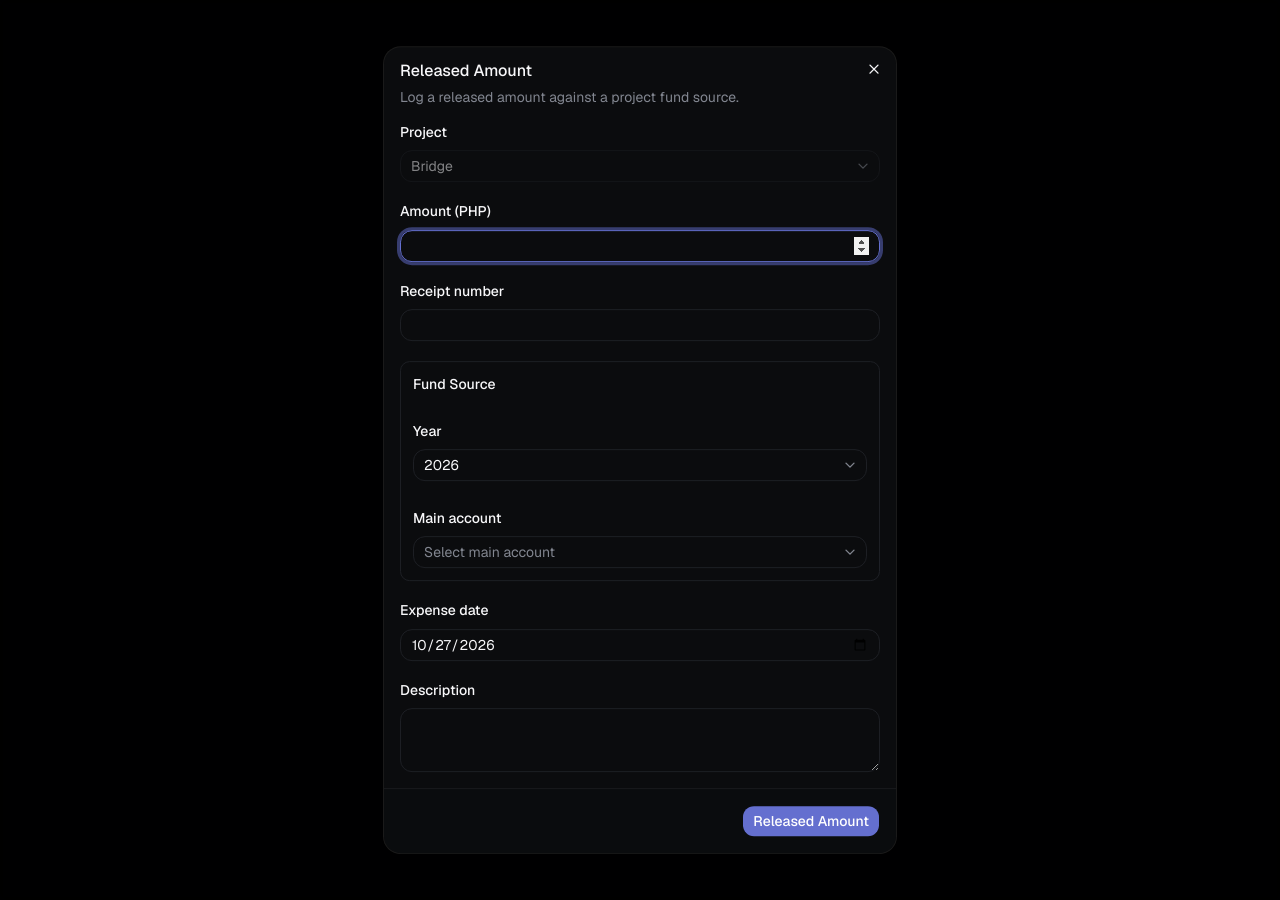
ReleasedAmountDialog (release cap) › should surface exact error when create would exceed allocated budget
Step 1. Type "15000" into the number field labelled "Amount (PHP)" → (640, 246), box x1=400 y1=230 x2=880 y2=262
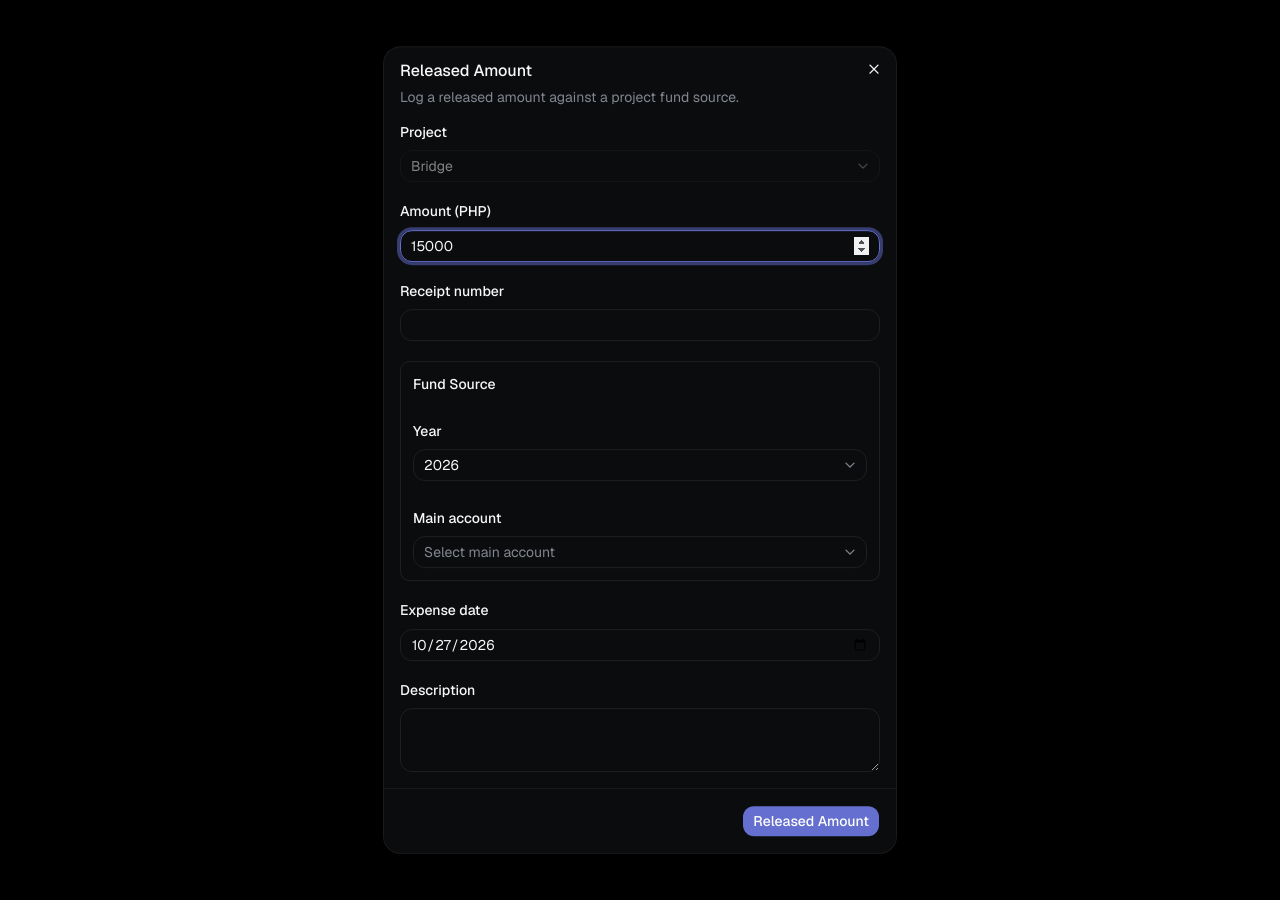
Step 2. Click the dropdown labelled "Select main account" → (490, 552), box x1=413 y1=536 x2=867 y2=568
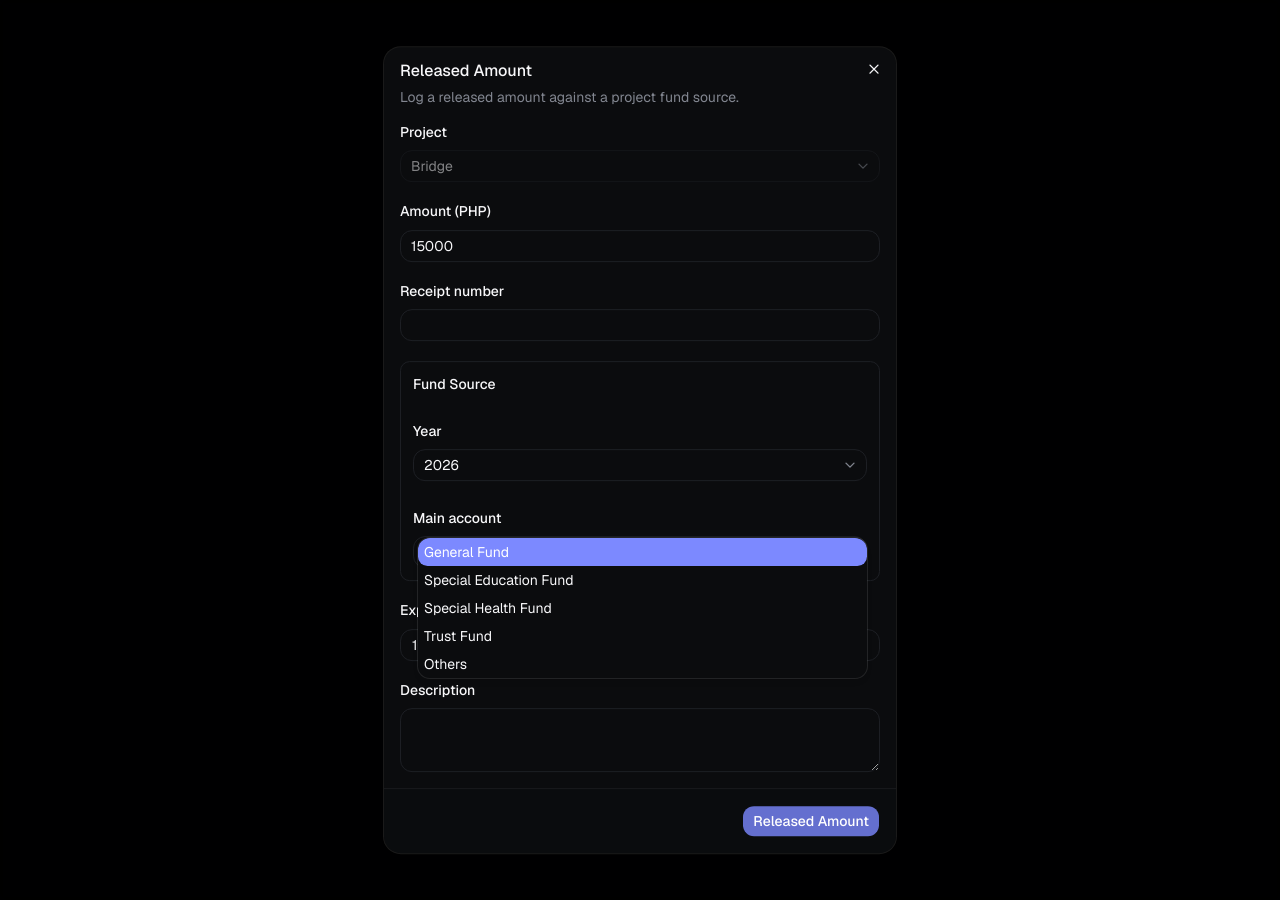
Step 3. Click the option "Special Education Fund" → (499, 580), box x1=424 y1=571 x2=574 y2=589
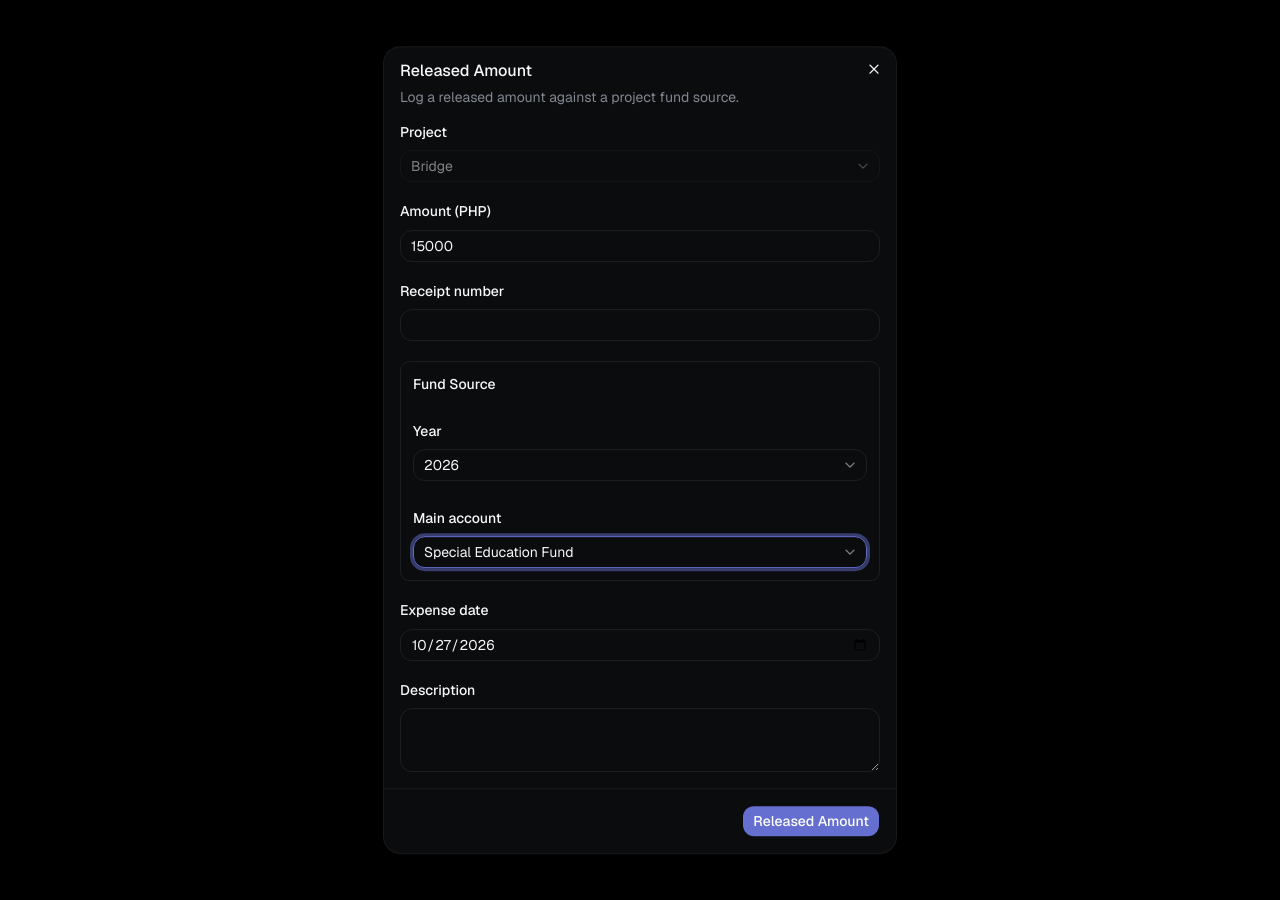
Step 4. Click the button with test id "released-amount-submit" → (811, 821), box x1=742 y1=805 x2=880 y2=837
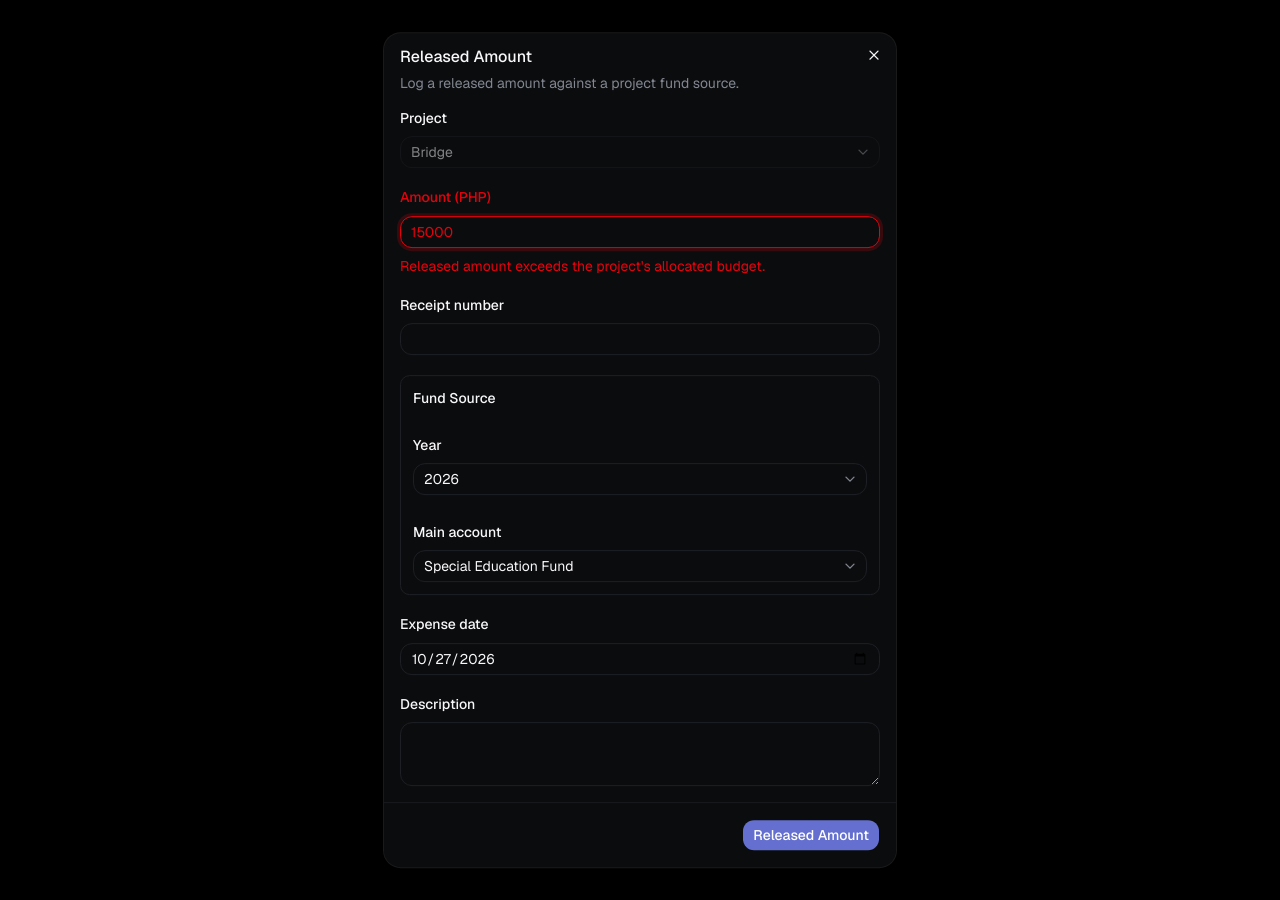
Check: the text "Released amount exceeds the project's allocated budget." is shown, box x1=400 y1=257 x2=765 y2=275
